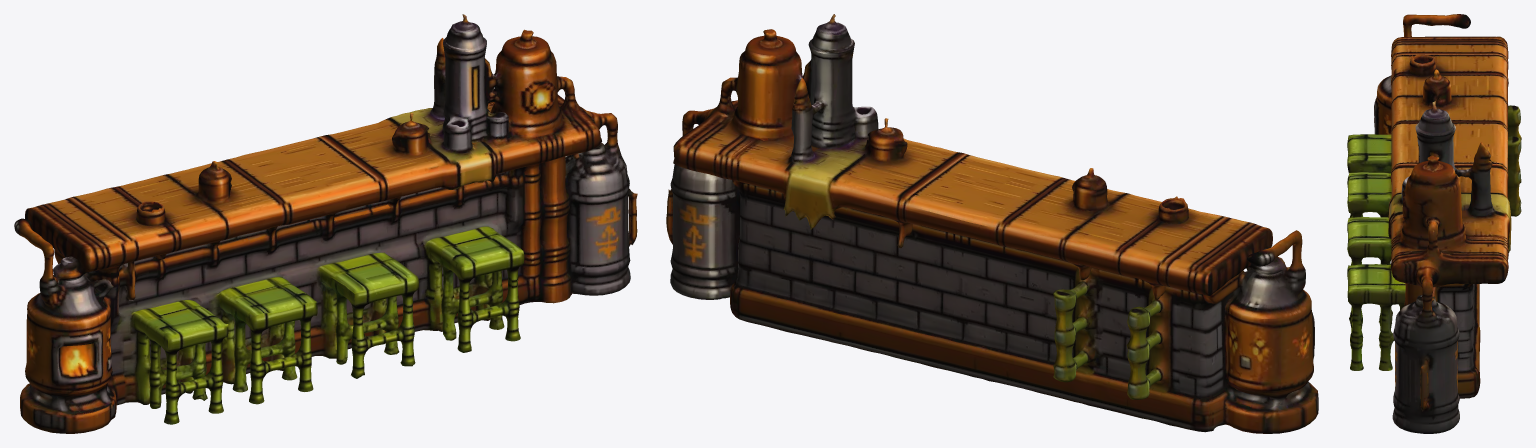
File: Tavern_Rusty_Steamworks_Fact.glb
The picture shows the model from 3 angles, left to right: view 1: azimuth 30°, elevation 25°; view 2: azimuth 150°, elevation 25°; view 3: azimuth 270°, elevation 25°; orthographic projection. The views are drawn at different scales.
Size of the model in its own units: 1.91 by 0.8707 by 0.5195.
Materials: 1 (1 with a texture image).
